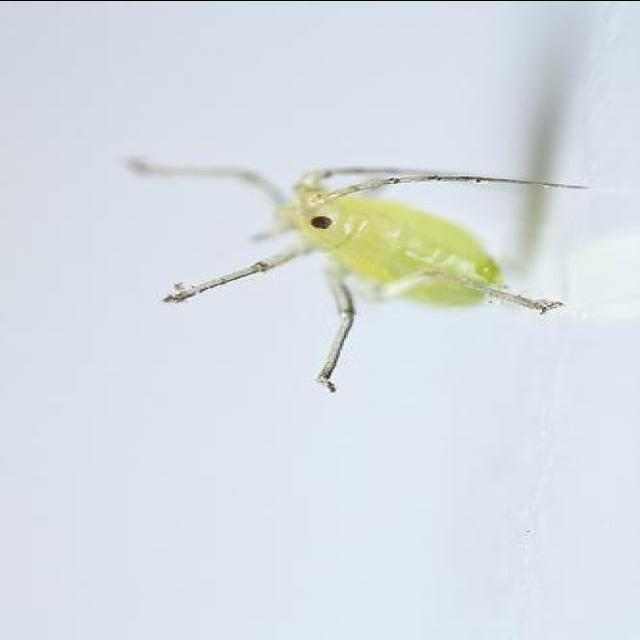aphid: (156, 168, 574, 378)
